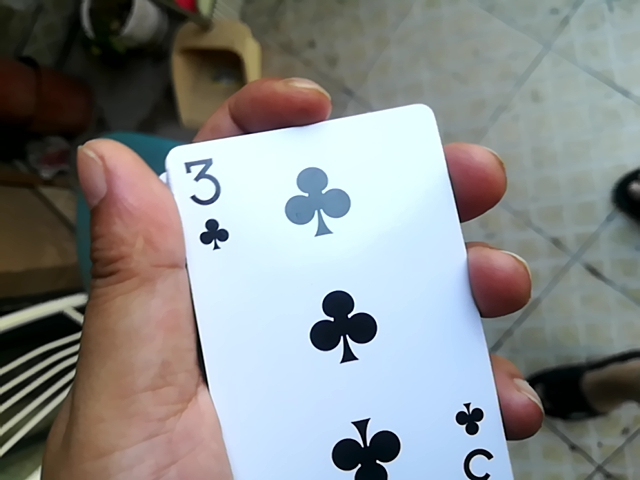mh 3: (147, 99, 495, 479)
